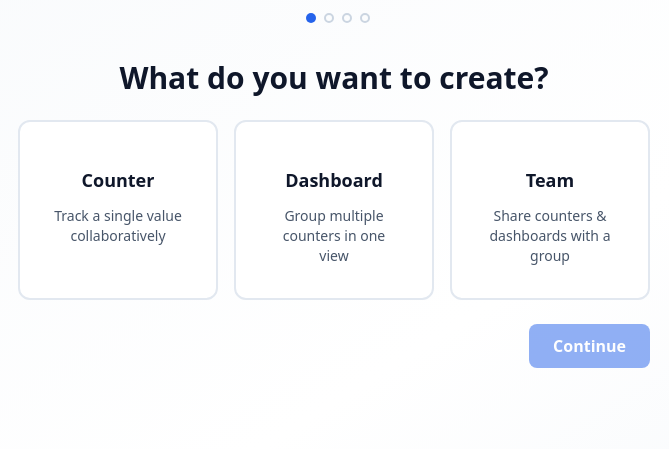
Scenario: Create page › owner step › appears with teams and lists them with stats when Team is picked
Step 1. Click the button "Dashboard Group multiple counters in one view" → coordinates (334, 210), box [234,120,434,300]
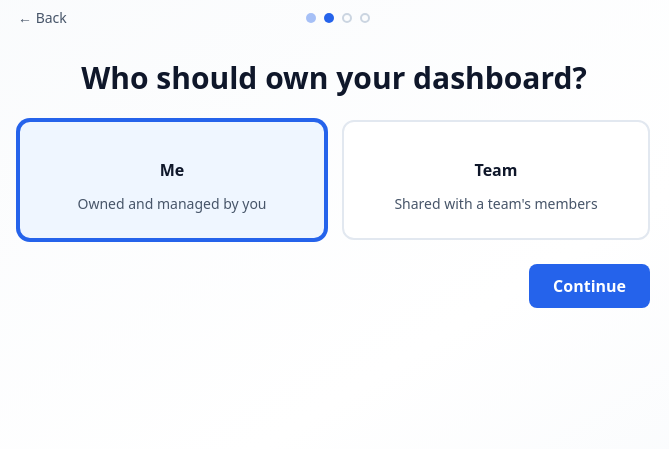
Check: the number of headings is 1, box [81,57,587,98]
Check: the heading reads "Who should own your dashboard?", box [81,57,587,98]
Step 2. Click the button "Team Shared with a team's members" → coordinates (496, 180), box [342,120,650,240]
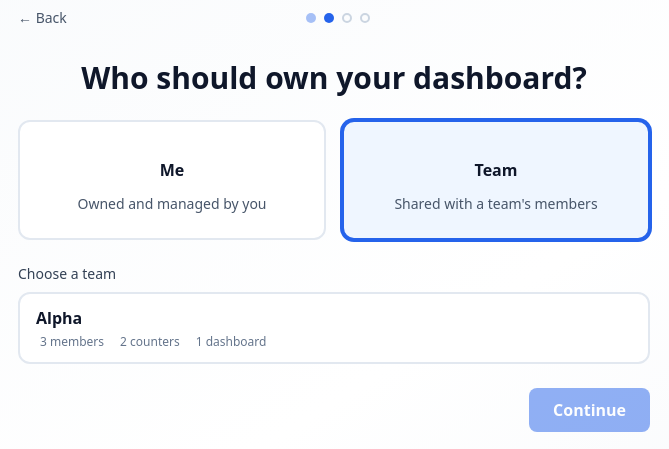
Check: the button "Alpha 3 members 2 counters 1 dashboard" is shown, box [18,292,650,364]
Check: the button "Continue" is disabled, box [529,388,650,432]
